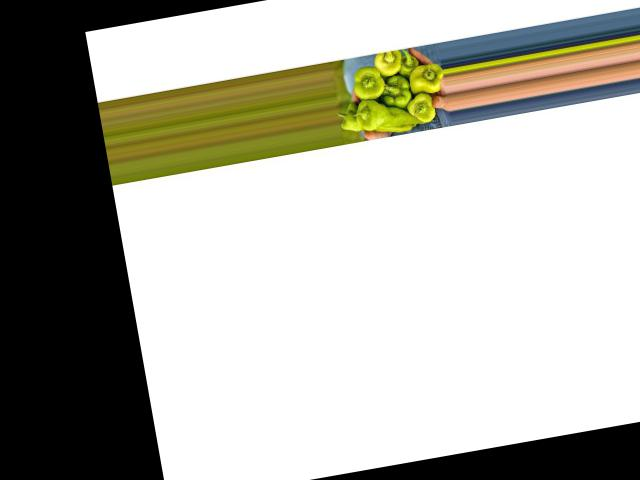bell_pepper: (404, 58, 444, 95)
